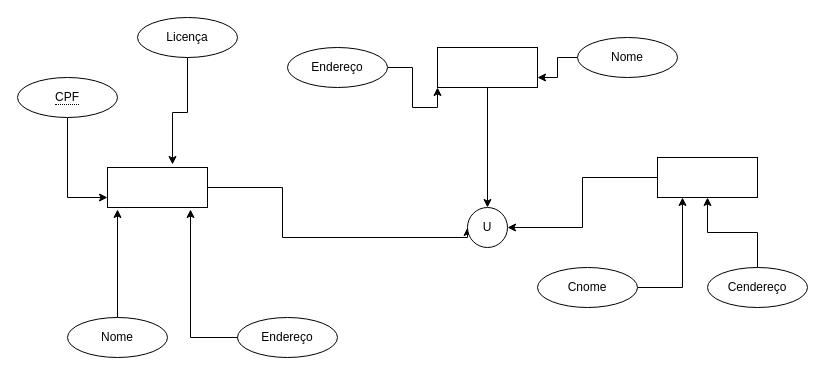
The diagram is 825 pixels wide and 375 high, and some of its shapes have lost their labels. The box of each missing label's shape, as (x1, y1, x2, y2) in pixels:
Banco: (436, 46, 538, 88)
Company: (656, 156, 758, 198)
Pessoa: (106, 166, 208, 208)
